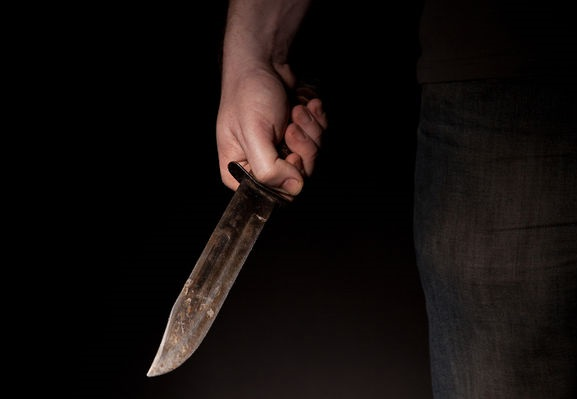knife: (137, 91, 328, 389)
